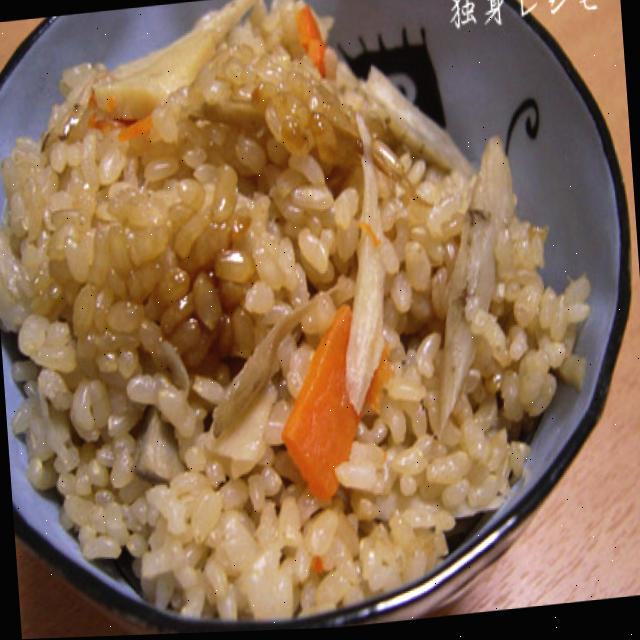米饭主食: (0, 0, 579, 636)
